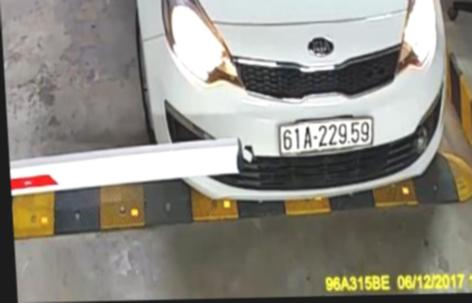License_Plate: (276, 116, 375, 162)
